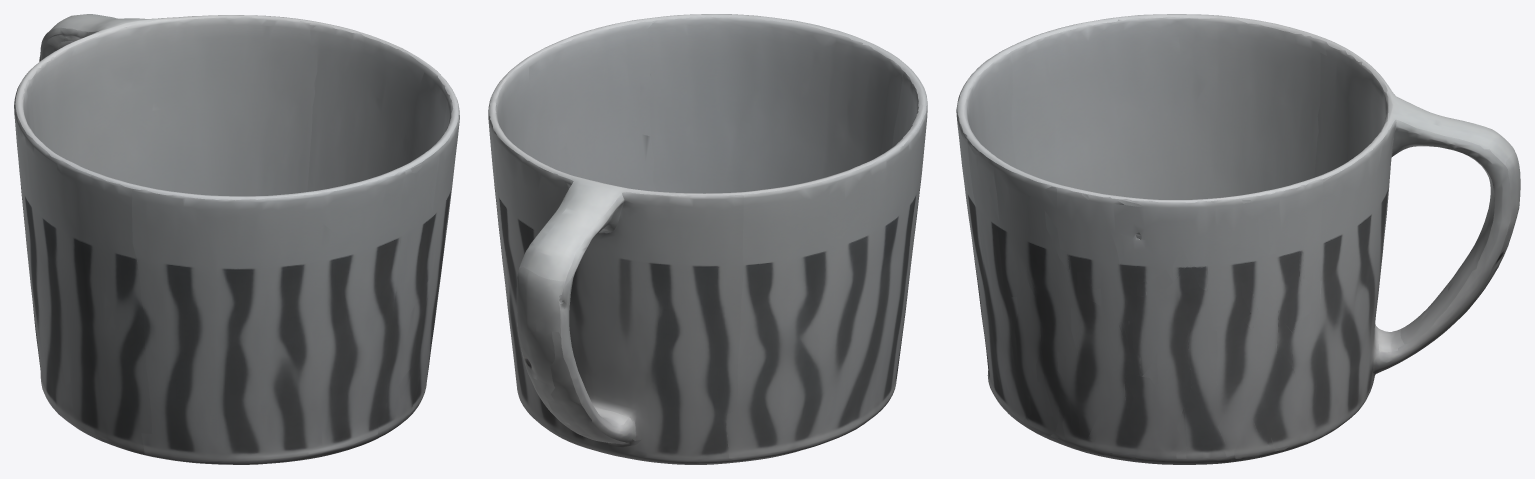
The picture shows the model from 3 angles, left to right: view 1: azimuth 30°, elevation 25°; view 2: azimuth 150°, elevation 25°; view 3: azimuth 270°, elevation 25°; orthographic projection.
Parts seen in each view (by area): view 1: geometry_0; view 2: geometry_0; view 3: geometry_0.
Boxes of the visible parts, x1,y1,x2,y2 form: geometry_0: (14,14,459,464); geometry_0: (488,14,927,464); geometry_0: (956,14,1520,464).
Bounding box in the file's own units: 1.6 × 1.17 × 2.07.
1 material, 1 textured.
